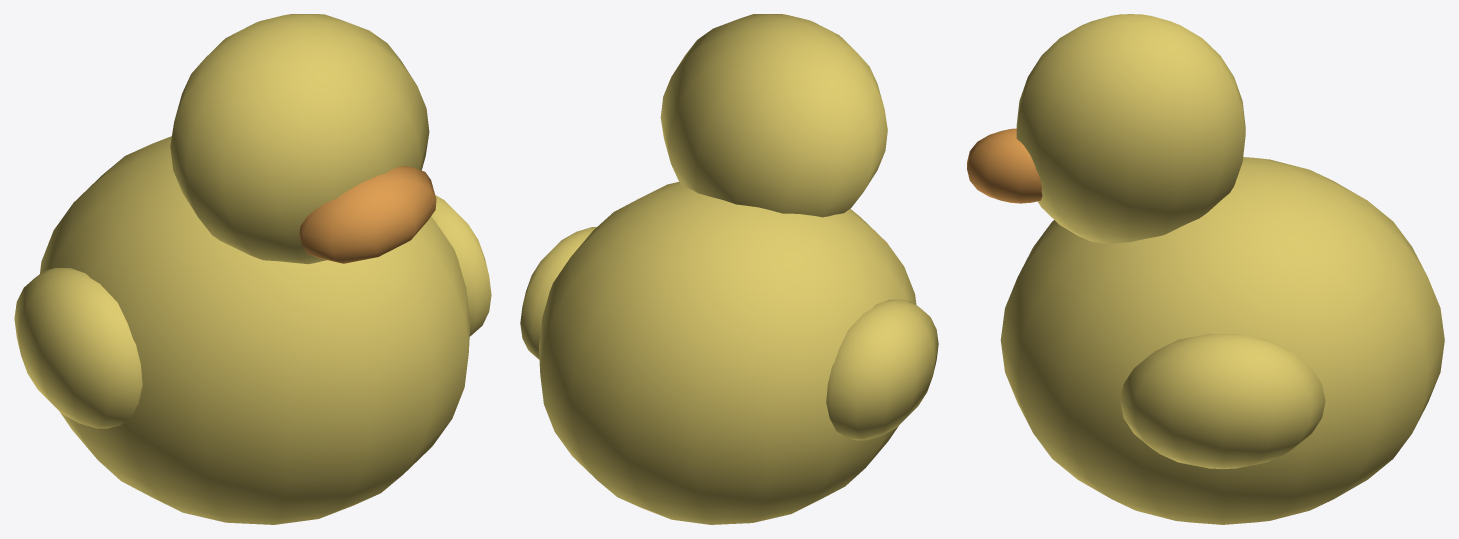
File: duck-thinking.glb
3 renders of one model, left to right at view 1: azimuth 30°, elevation 25°; view 2: azimuth 150°, elevation 25°; view 3: azimuth 270°, elevation 25°, orthographic. The views are drawn at different scales.
Visible parts, largest first — view 1: Duck; view 2: Duck; view 3: Duck.
Boxes of the visible parts, x1=… form: Duck: x1=14, y1=14, x2=491, y2=524; Duck: x1=520, y1=14, x2=938, y2=524; Duck: x1=967, y1=14, x2=1444, y2=524.
Bounding box in the file's own units: 1.25 × 1.44 × 1.3.
